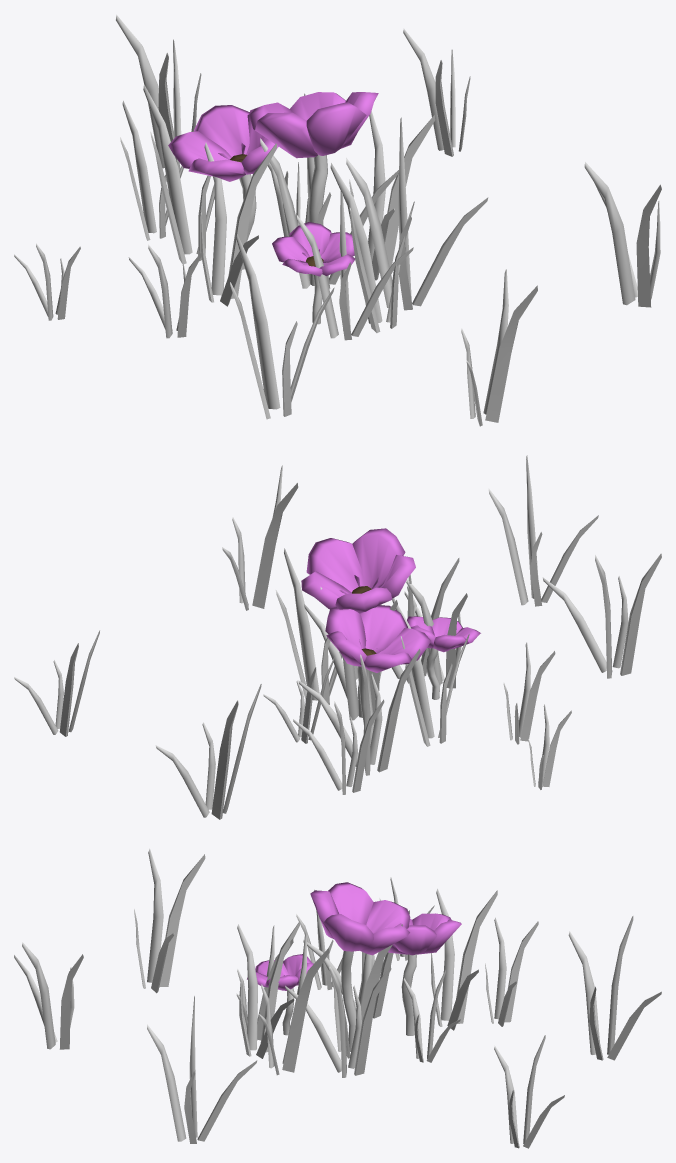
Rendered from GrassBatch_FlowerSmall.fbx.
3 views of the same model, one above another, from view 1: azimuth 30°, elevation 25°; view 2: azimuth 150°, elevation 25°; view 3: azimuth 270°, elevation 25° (orthographic). The views are drawn at different scales.
Parts seen in each view (by area): view 1: FlowersSmall; view 2: FlowersSmall; view 3: FlowersSmall.
Part boxes in pixels (left/top/right/bottom): FlowersSmall: left=14, top=14, right=661, bottom=426; FlowersSmall: left=14, top=455, right=661, bottom=819; FlowersSmall: left=14, top=848, right=661, bottom=1148.
Size of the model in its own units: 89.35 by 31.86 by 117.
